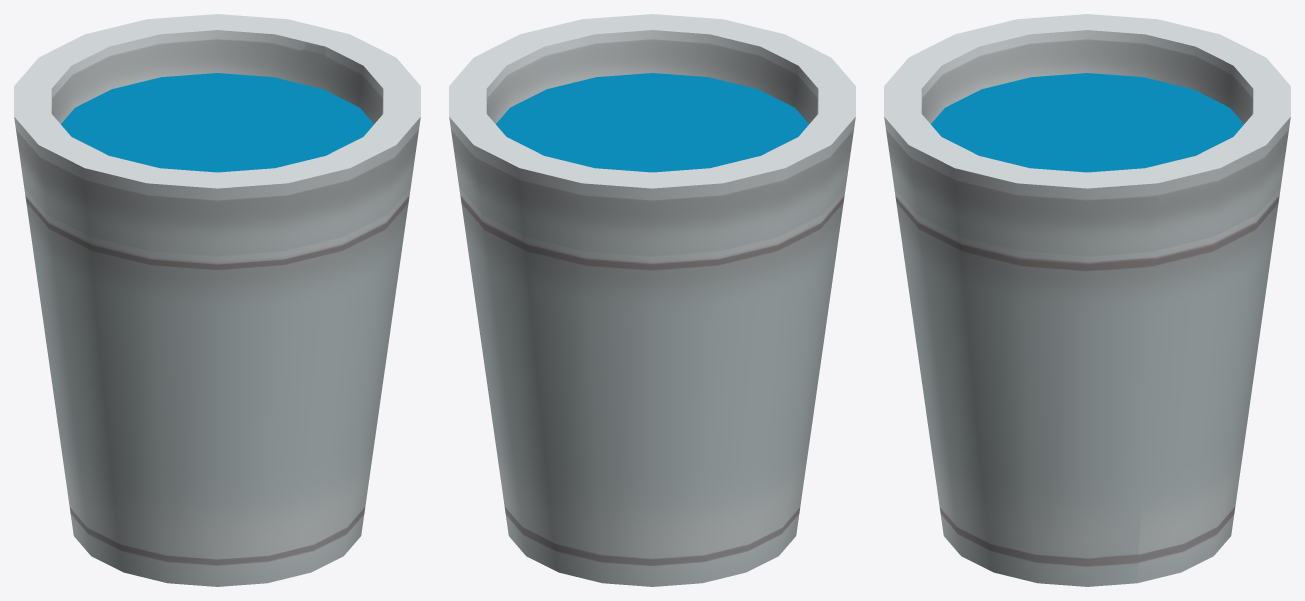
Rendered from cup.FBX.
3 views of the same model, side by side, from view 1: azimuth 30°, elevation 25°; view 2: azimuth 150°, elevation 25°; view 3: azimuth 270°, elevation 25° (orthographic).
Parts seen in each view (by area): view 1: _cup, _water; view 2: _cup, _water; view 3: _cup, _water.
Boxes of the visible parts, x1=… form: _cup: x1=14, y1=14, x2=420, y2=586; _water: x1=61, y1=73, x2=373, y2=172; _cup: x1=449, y1=14, x2=855, y2=586; _water: x1=496, y1=73, x2=808, y2=172; _cup: x1=884, y1=14, x2=1290, y2=586; _water: x1=931, y1=73, x2=1243, y2=172.
Bounding box in the file's own units: 0.4415 × 0.5 × 0.4347.
